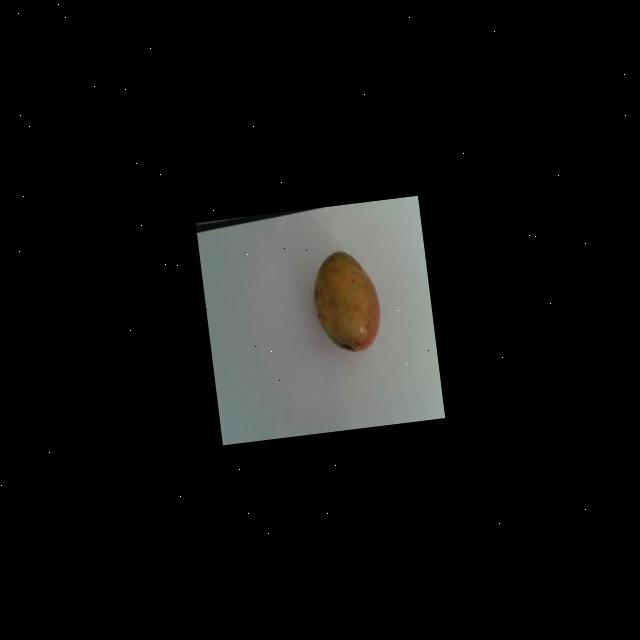Mango: (307, 247, 384, 356)
